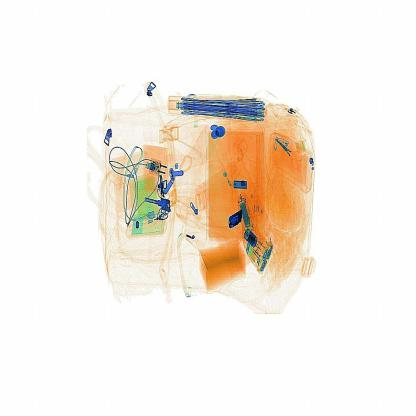knife: (223, 207, 255, 233)
